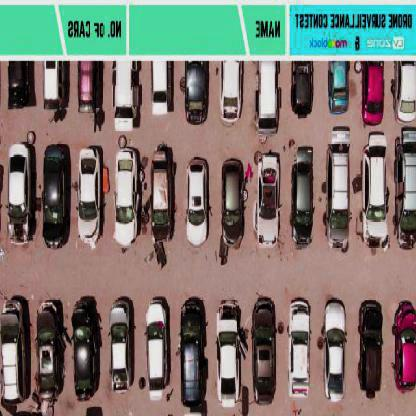car: (35, 299, 66, 413), (178, 298, 206, 406), (42, 144, 69, 248), (215, 298, 241, 405), (72, 300, 98, 399), (252, 297, 276, 404), (326, 146, 350, 252), (219, 159, 244, 260), (7, 141, 31, 243), (290, 147, 314, 249), (322, 300, 346, 402), (1, 302, 23, 409), (358, 303, 383, 395), (151, 143, 173, 245), (391, 302, 415, 395), (108, 299, 131, 395), (289, 299, 310, 400), (145, 301, 167, 397), (115, 152, 136, 251), (258, 154, 279, 248), (79, 147, 99, 243), (187, 159, 208, 247), (256, 62, 280, 138), (221, 63, 241, 125), (328, 62, 347, 114), (7, 64, 28, 110)
